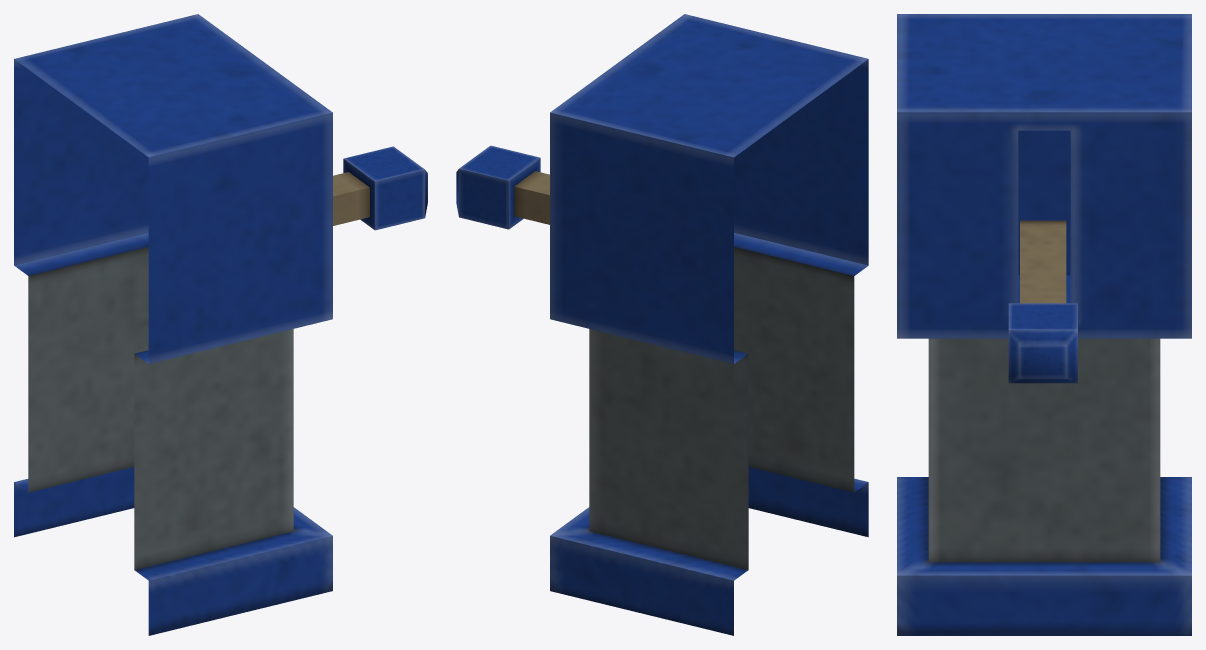
Rendered from WallLeverBlue.fbx.
3 views of the same model, side by side, from view 1: azimuth 30°, elevation 25°; view 2: azimuth 150°, elevation 25°; view 3: azimuth 270°, elevation 25° (orthographic). The views are drawn at different scales.
Parts seen in each view (by area): view 1: palanca_vert_base, palanca_vert_palo; view 2: palanca_vert_base, palanca_vert_palo; view 3: palanca_vert_base, palanca_vert_palo.
Part boxes in pixels (x1,y1,x2,y2): palanca_vert_base: (14, 14, 332, 635); palanca_vert_palo: (333, 146, 427, 230); palanca_vert_base: (550, 14, 868, 635); palanca_vert_palo: (456, 145, 549, 229); palanca_vert_base: (897, 14, 1191, 635); palanca_vert_palo: (1008, 220, 1077, 383).
Bounding box in the file's own units: 14.78 × 20.16 × 10.29.
